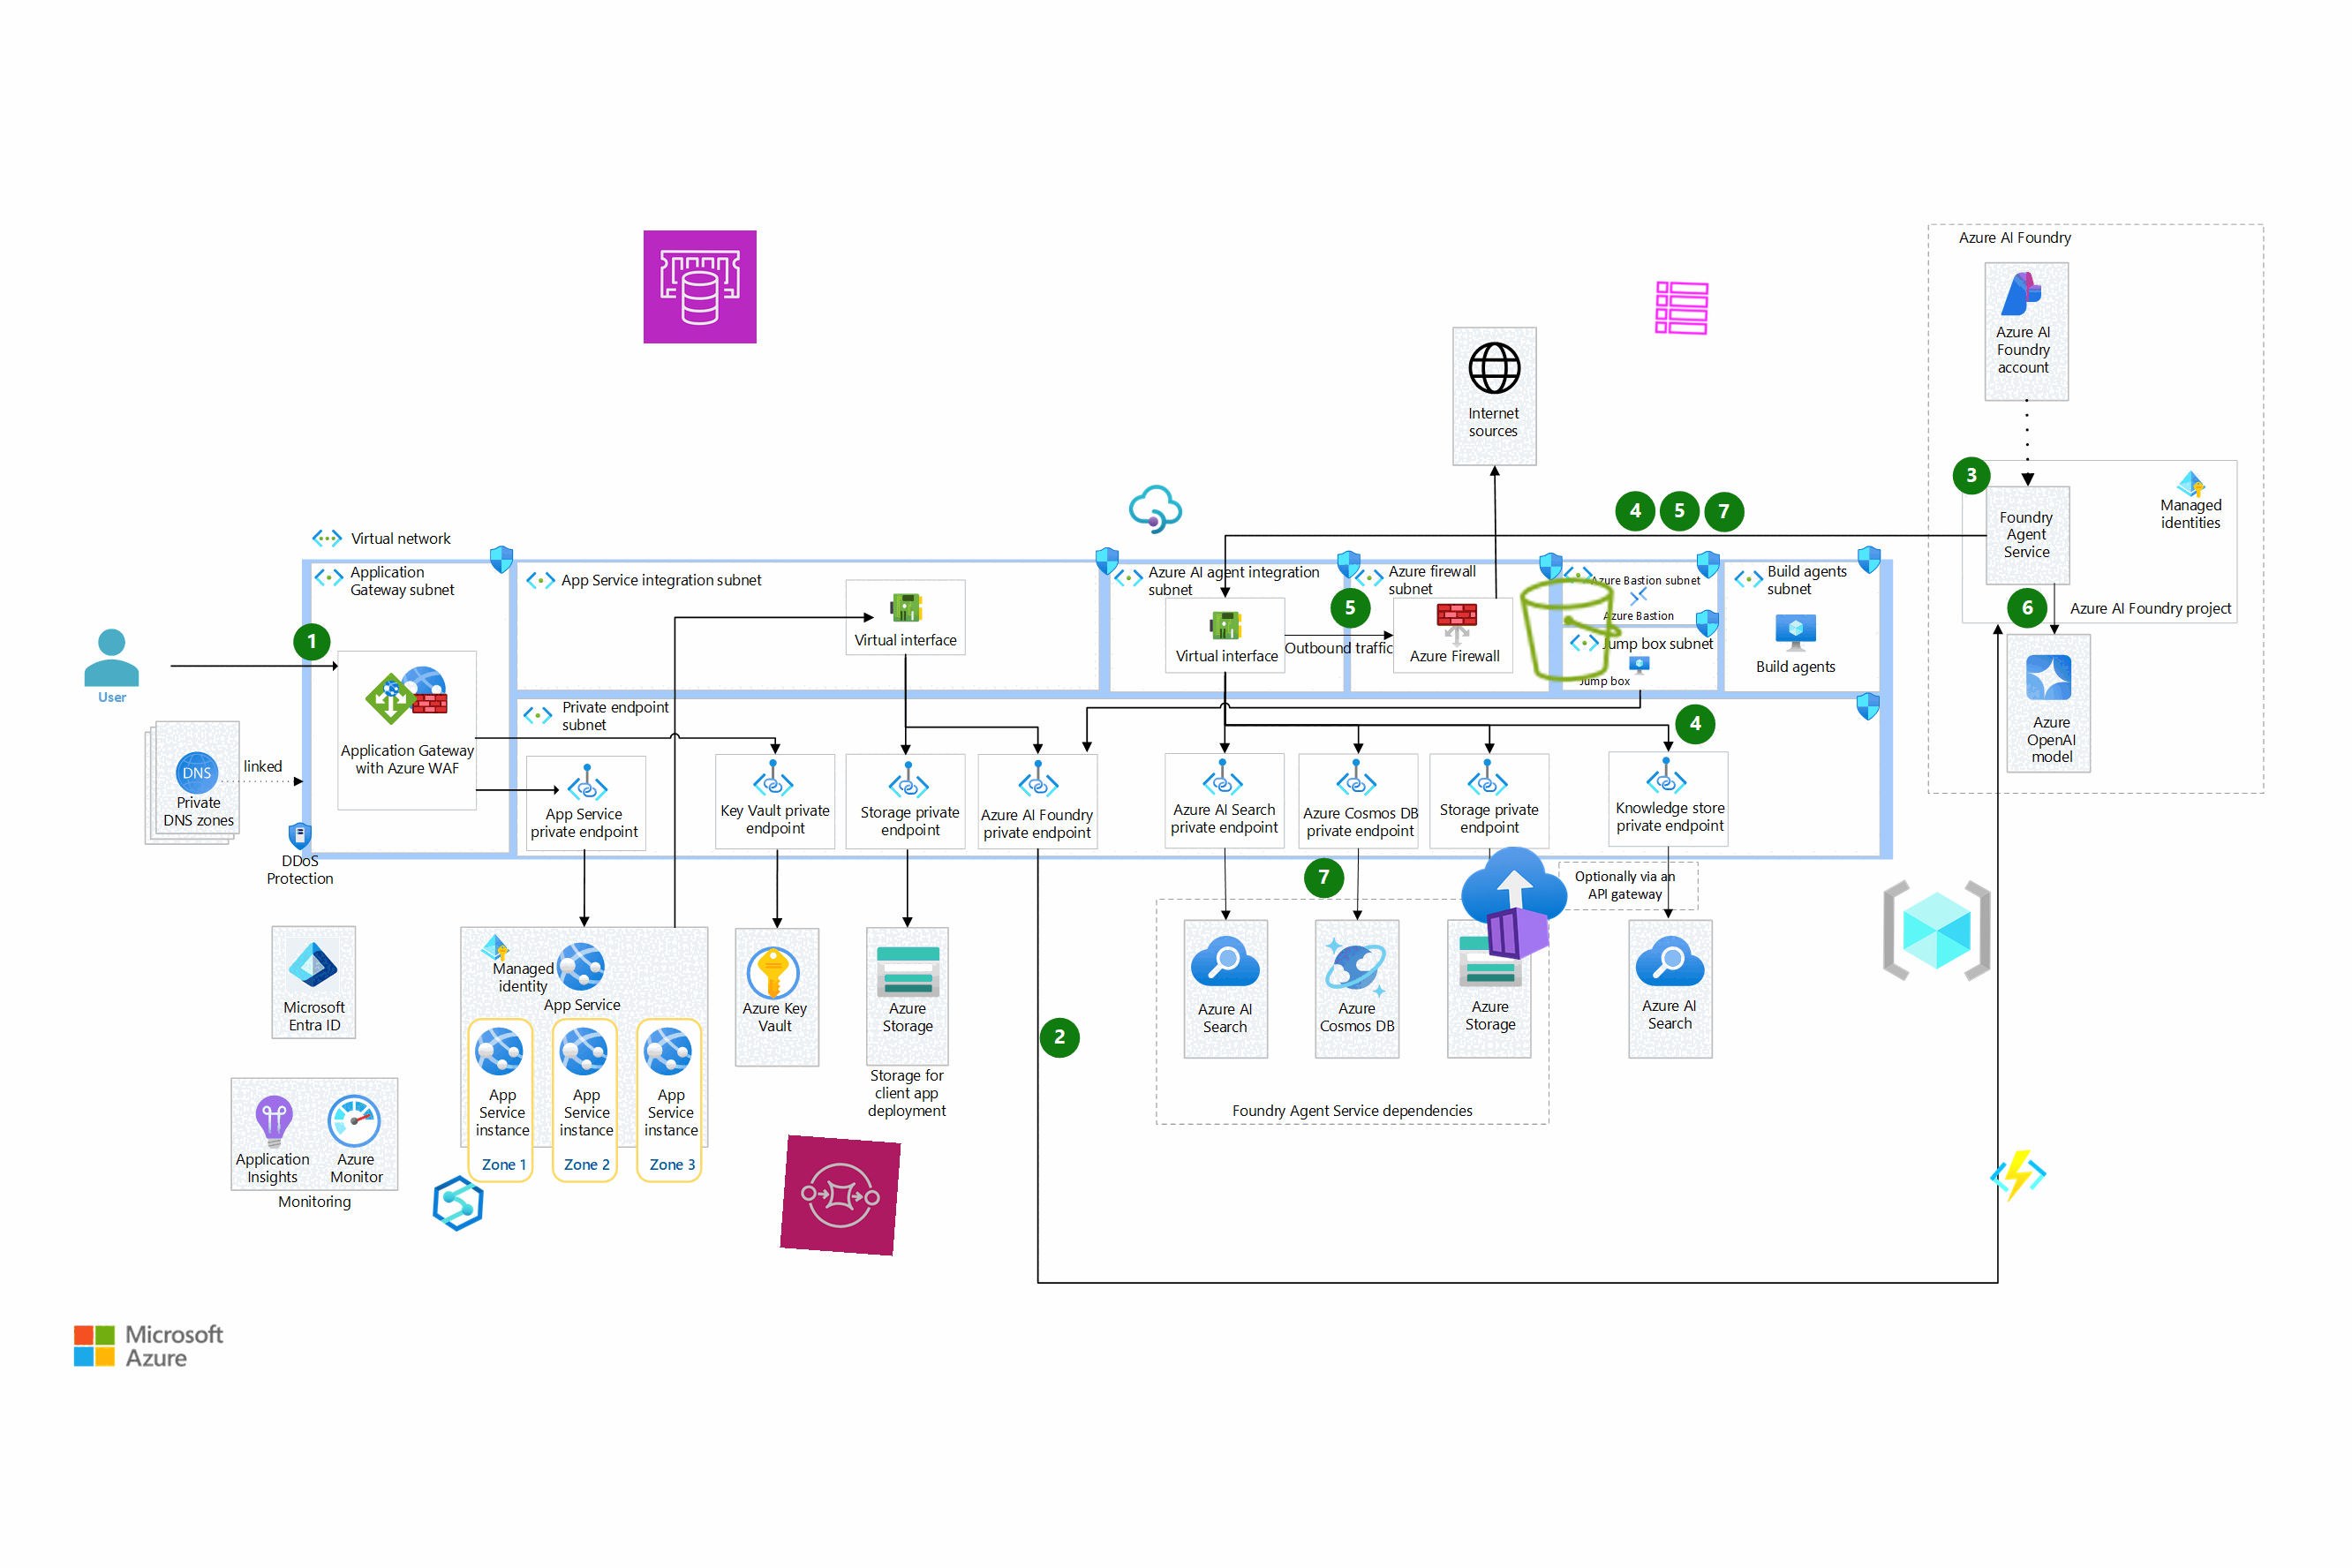aws_amazon_elasticache: (642, 229, 758, 345)
aws_amazon_simple_queue_service: (779, 1134, 901, 1256)
aws_dynamodb_table: (1652, 278, 1711, 338)
aws_simple_storage_service_bucket: (1512, 569, 1631, 689)
azure_api_management_services: (1127, 479, 1185, 539)
azure_container_instances: (1454, 842, 1577, 964)
azure_function_apps: (1988, 1144, 2049, 1207)
azure_resource_groups: (1879, 873, 1995, 989)
azure_synapse_analytics: (429, 1172, 488, 1234)
